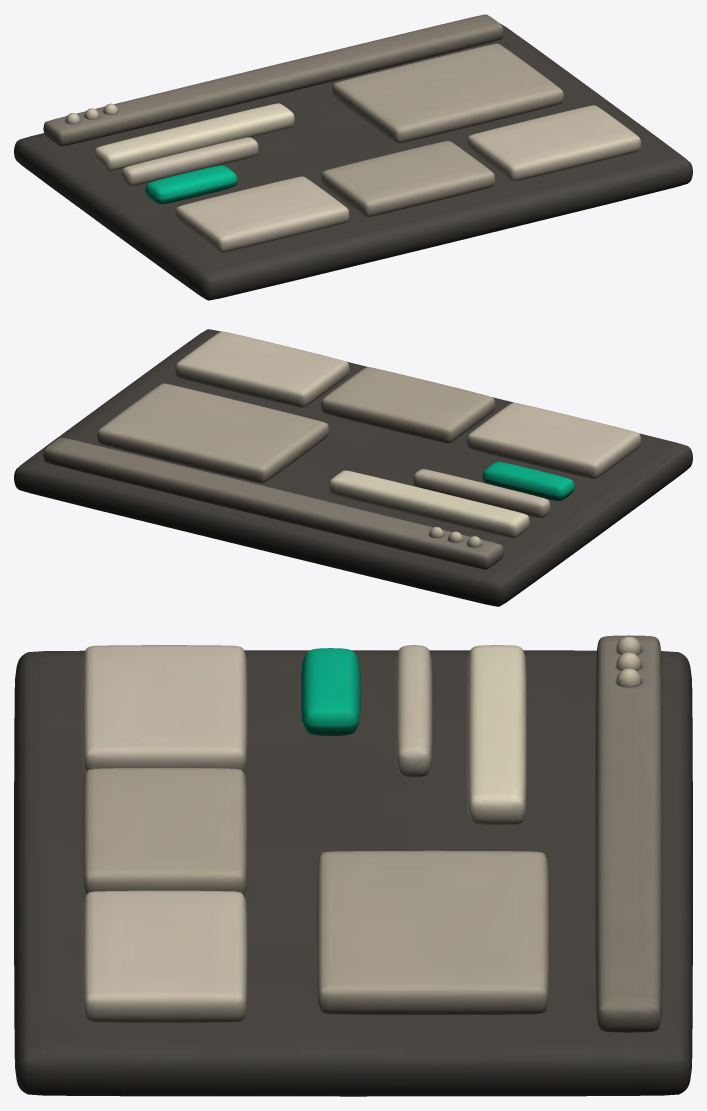
File: site.glb
3 renders of one model, top to bottom at view 1: azimuth 30°, elevation 25°; view 2: azimuth 150°, elevation 25°; view 3: azimuth 270°, elevation 25°, orthographic. The views are drawn at different scales.
Parts seen in each view (by area): view 1: Base_mesh, Bar_mesh, Picture_mesh, Card_1_mesh, Card_2_mesh, Card_3_mesh, Title_mesh, Subtitle_mesh, Button_mesh; view 2: Base_mesh, Bar_mesh, Picture_mesh, Card_3_mesh, Card_1_mesh, Card_2_mesh, Title_mesh, Subtitle_mesh, Button_mesh; view 3: Base_mesh, Picture_mesh, Bar_mesh, Card_3_mesh, Card_1_mesh, Card_2_mesh, Title_mesh, Button_mesh, Subtitle_mesh.
Part boxes in pixels (x1,y1,x2,y2): Base_mesh: (14,23,692,300); Bar_mesh: (43,14,503,146); Picture_mesh: (332,43,563,143); Card_1_mesh: (175,176,349,252); Card_2_mesh: (321,141,495,216); Card_3_mesh: (467,105,641,181); Title_mesh: (94,103,294,170); Subtitle_mesh: (121,137,258,186); Button_mesh: (145,165,237,204); Base_mesh: (14,329,692,606); Bar_mesh: (43,437,503,569); Picture_mesh: (97,383,328,483); Card_3_mesh: (175,331,349,407); Card_1_mesh: (467,402,641,478); Card_2_mesh: (321,367,495,443); Title_mesh: (329,470,529,537); Subtitle_mesh: (413,469,550,517); Button_mesh: (482,462,574,500); Base_mesh: (14,650,692,1096); Picture_mesh: (316,850,549,1014); Bar_mesh: (595,635,662,1032); Card_3_mesh: (82,890,247,1022); Card_1_mesh: (82,645,247,772); Card_2_mesh: (82,768,247,894); Title_mesh: (467,645,526,825); Button_mesh: (301,648,360,735); Subtitle_mesh: (395,645,432,777).
Bounding box in the file's own units: 2.6 × 0.2647 × 1.8.
1 material, 1 textured.
